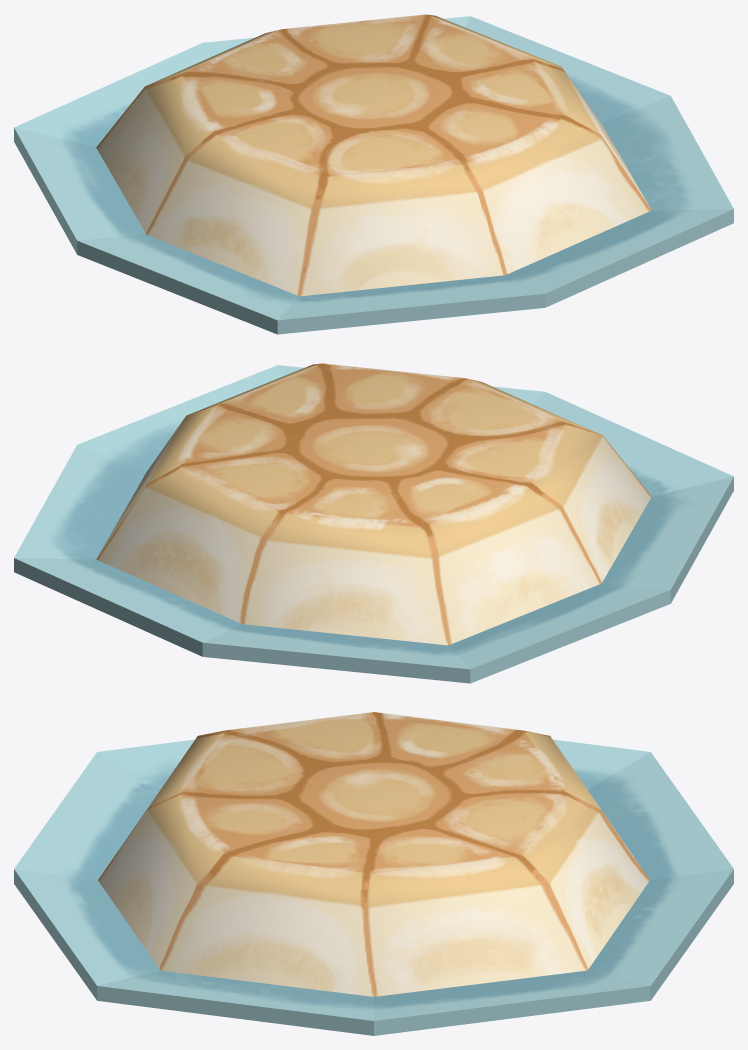
File: panipopo.fbx
3 renders of one model, top to bottom at view 1: azimuth 30°, elevation 25°; view 2: azimuth 150°, elevation 25°; view 3: azimuth 270°, elevation 25°, orthographic. The views are drawn at different scales.
Parts seen in each view (by area): view 1: panipopo; view 2: panipopo; view 3: panipopo.
Part boxes in pixels (x1,y1,x2,y2): panipopo: [14, 14, 733, 334]; panipopo: [14, 363, 733, 683]; panipopo: [14, 712, 733, 1035].
Bounding box in the file's own units: 0.5607 × 0.108 × 0.5607.
